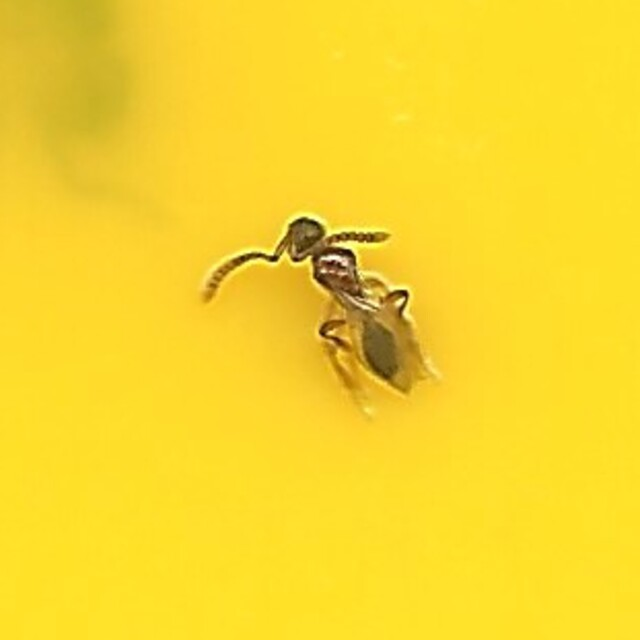Hymenoptera: (206, 215, 434, 425)
